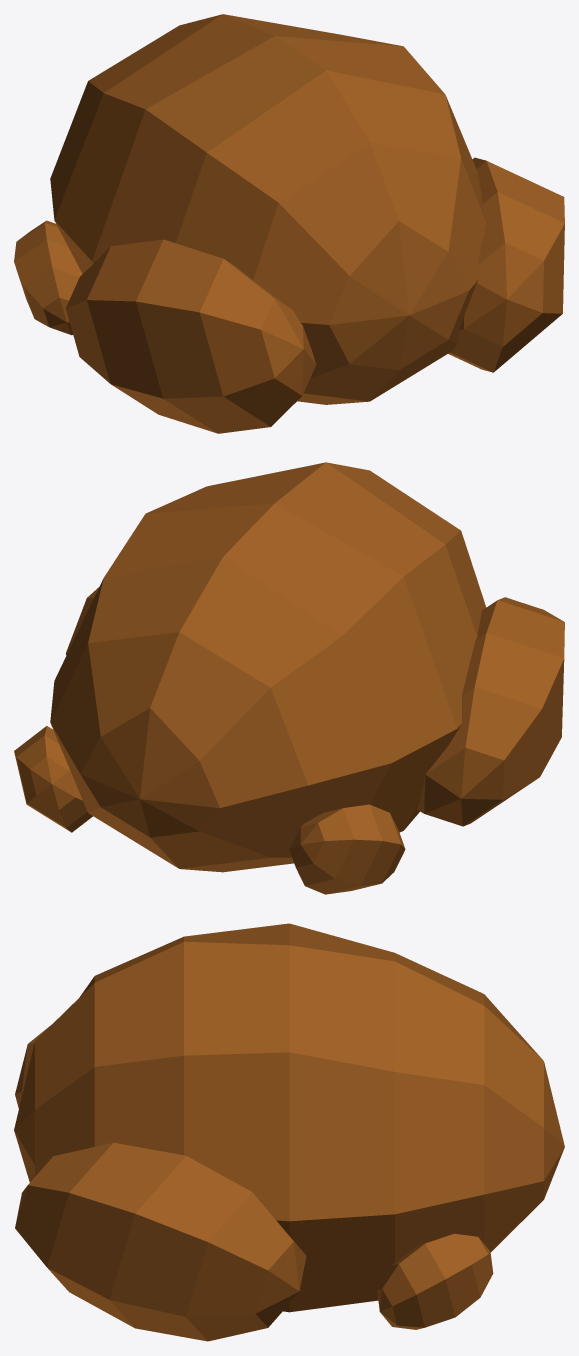
Rendered from SM_SingleChicken.fbx.
The picture shows the model from 3 angles, top to bottom: view 1: azimuth 30°, elevation 25°; view 2: azimuth 150°, elevation 25°; view 3: azimuth 270°, elevation 25°; orthographic projection. The views are drawn at different scales.
Visible parts, largest first — view 1: SM_RoastChicken; view 2: SM_RoastChicken; view 3: SM_RoastChicken.
Part boxes in pixels (box(x1,y1,x2,y2)): SM_RoastChicken: box(14, 14, 564, 433); SM_RoastChicken: box(14, 462, 564, 894); SM_RoastChicken: box(14, 923, 564, 1341).
Bounding box in the file's own units: 0.3879 × 0.2825 × 0.3976.
